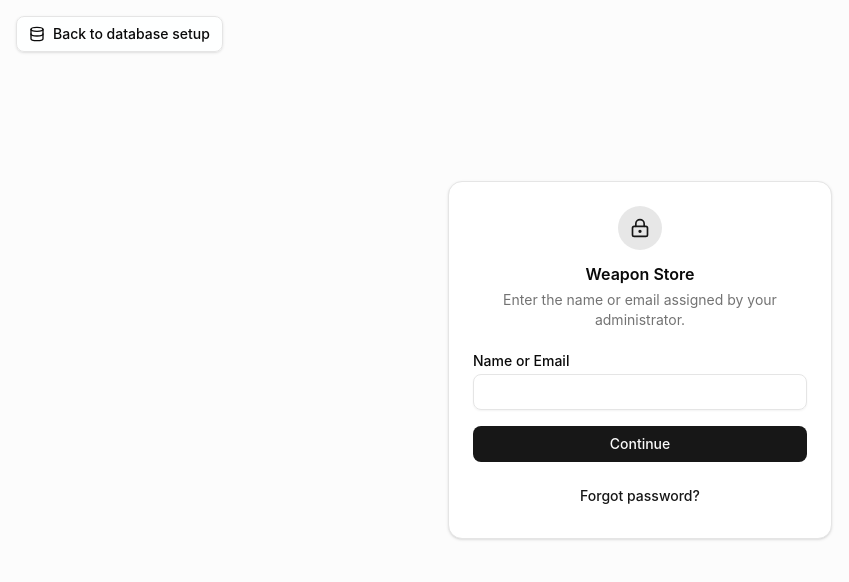
Test: AuthScreen › shows a concise recovery error and re-enables retry
The image size is (849, 582).
In the field labelled "Name or Email": [640, 392] box [473, 374, 807, 410], type "missing-user"
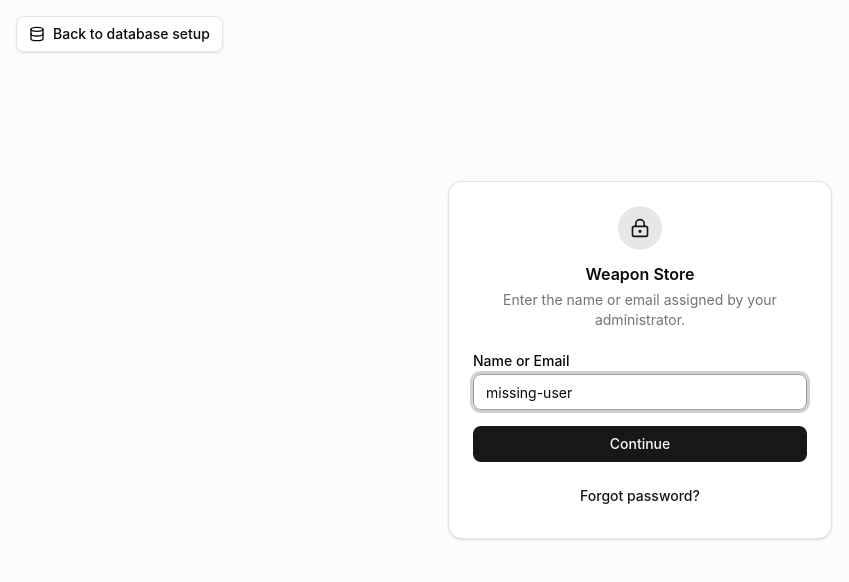
Click the button "Continue": [640, 444] box [473, 426, 807, 462]
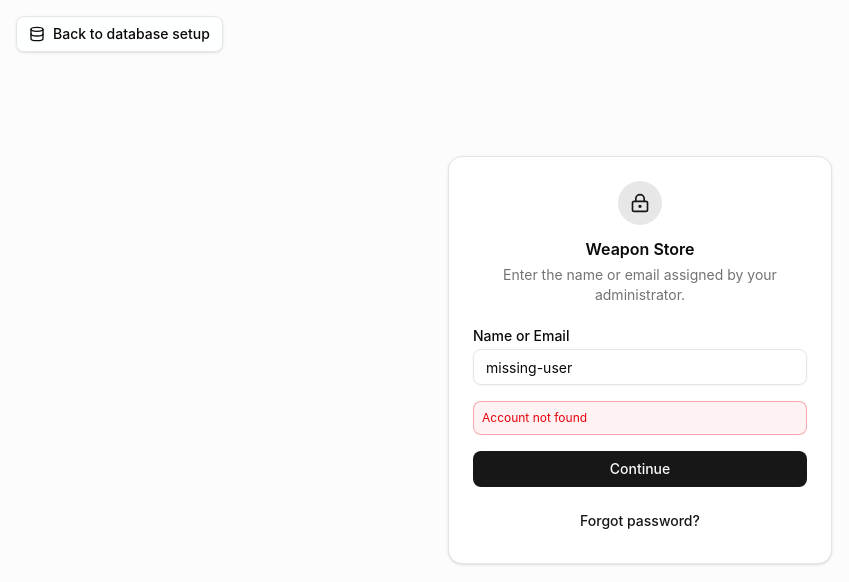
expect the button "Continue" is enabled: met, box [473, 451, 807, 487]
expect the message reads "Account not found": met, box [482, 410, 587, 425]
